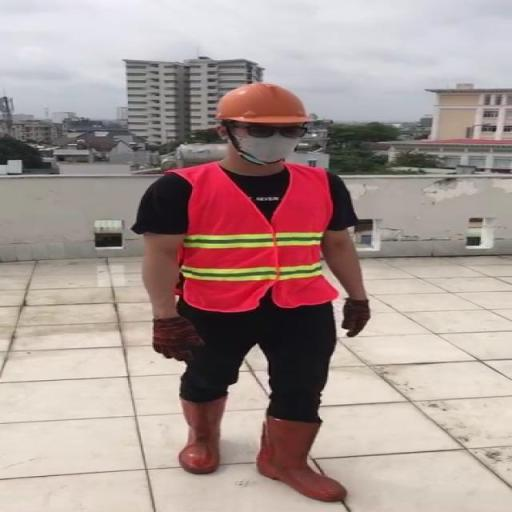Person: (144, 77, 383, 512)
boots: (254, 410, 354, 504), (170, 383, 243, 478)
gloves: (151, 309, 203, 371), (336, 299, 382, 335)
goggles: (230, 121, 318, 140)
helmet: (212, 83, 322, 124)
vest: (161, 157, 342, 306)
